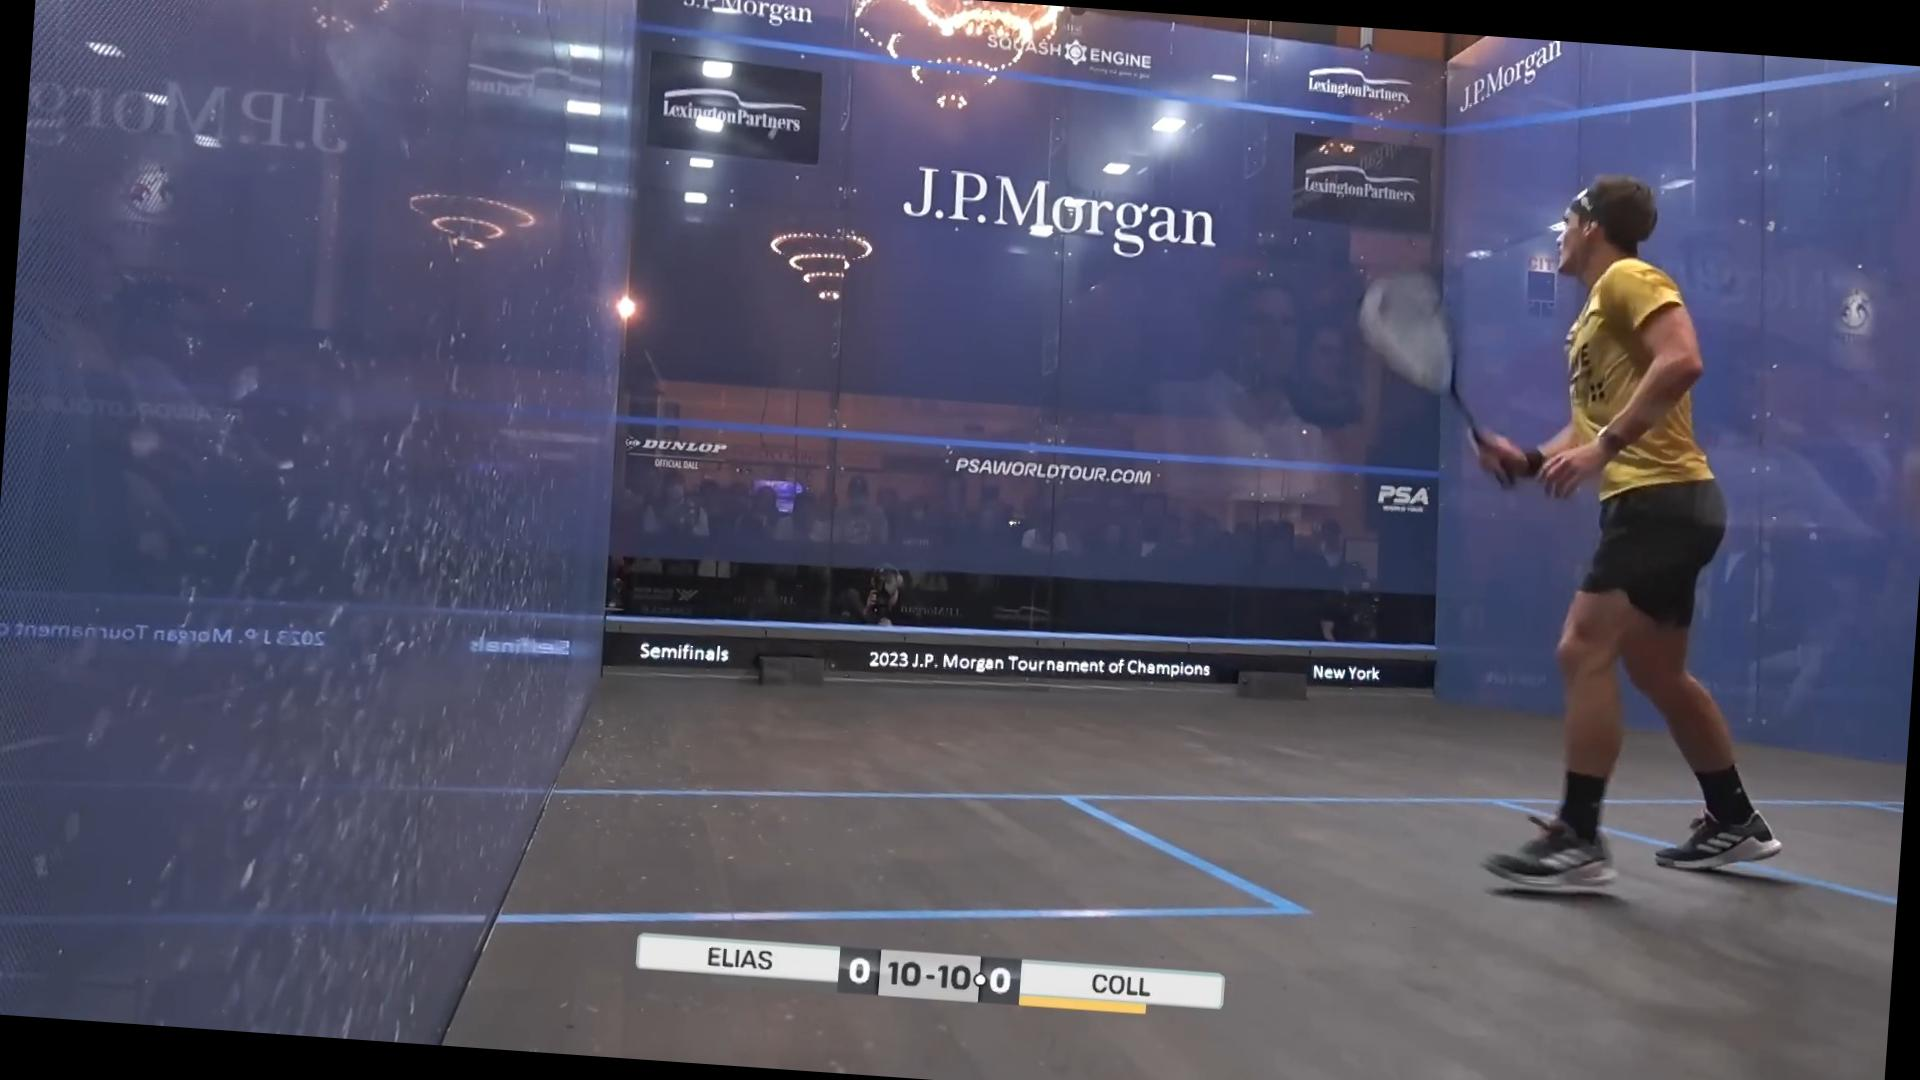Racket: (1333, 257, 1519, 492)
